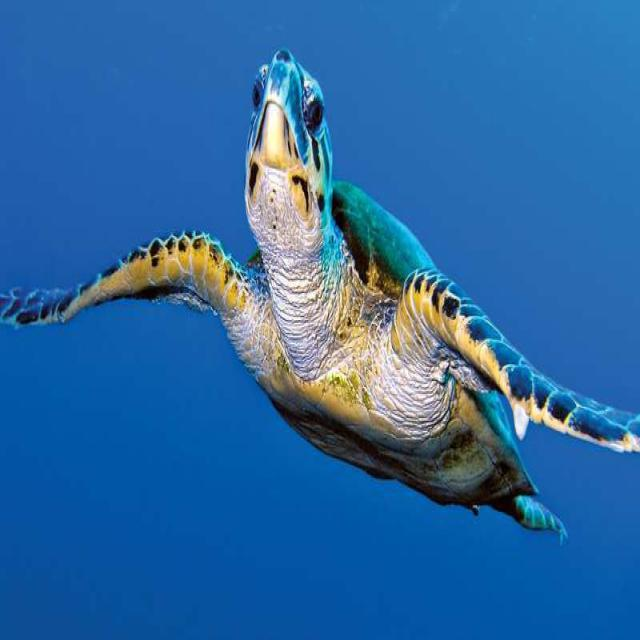turtle: (209, 77, 431, 450)
